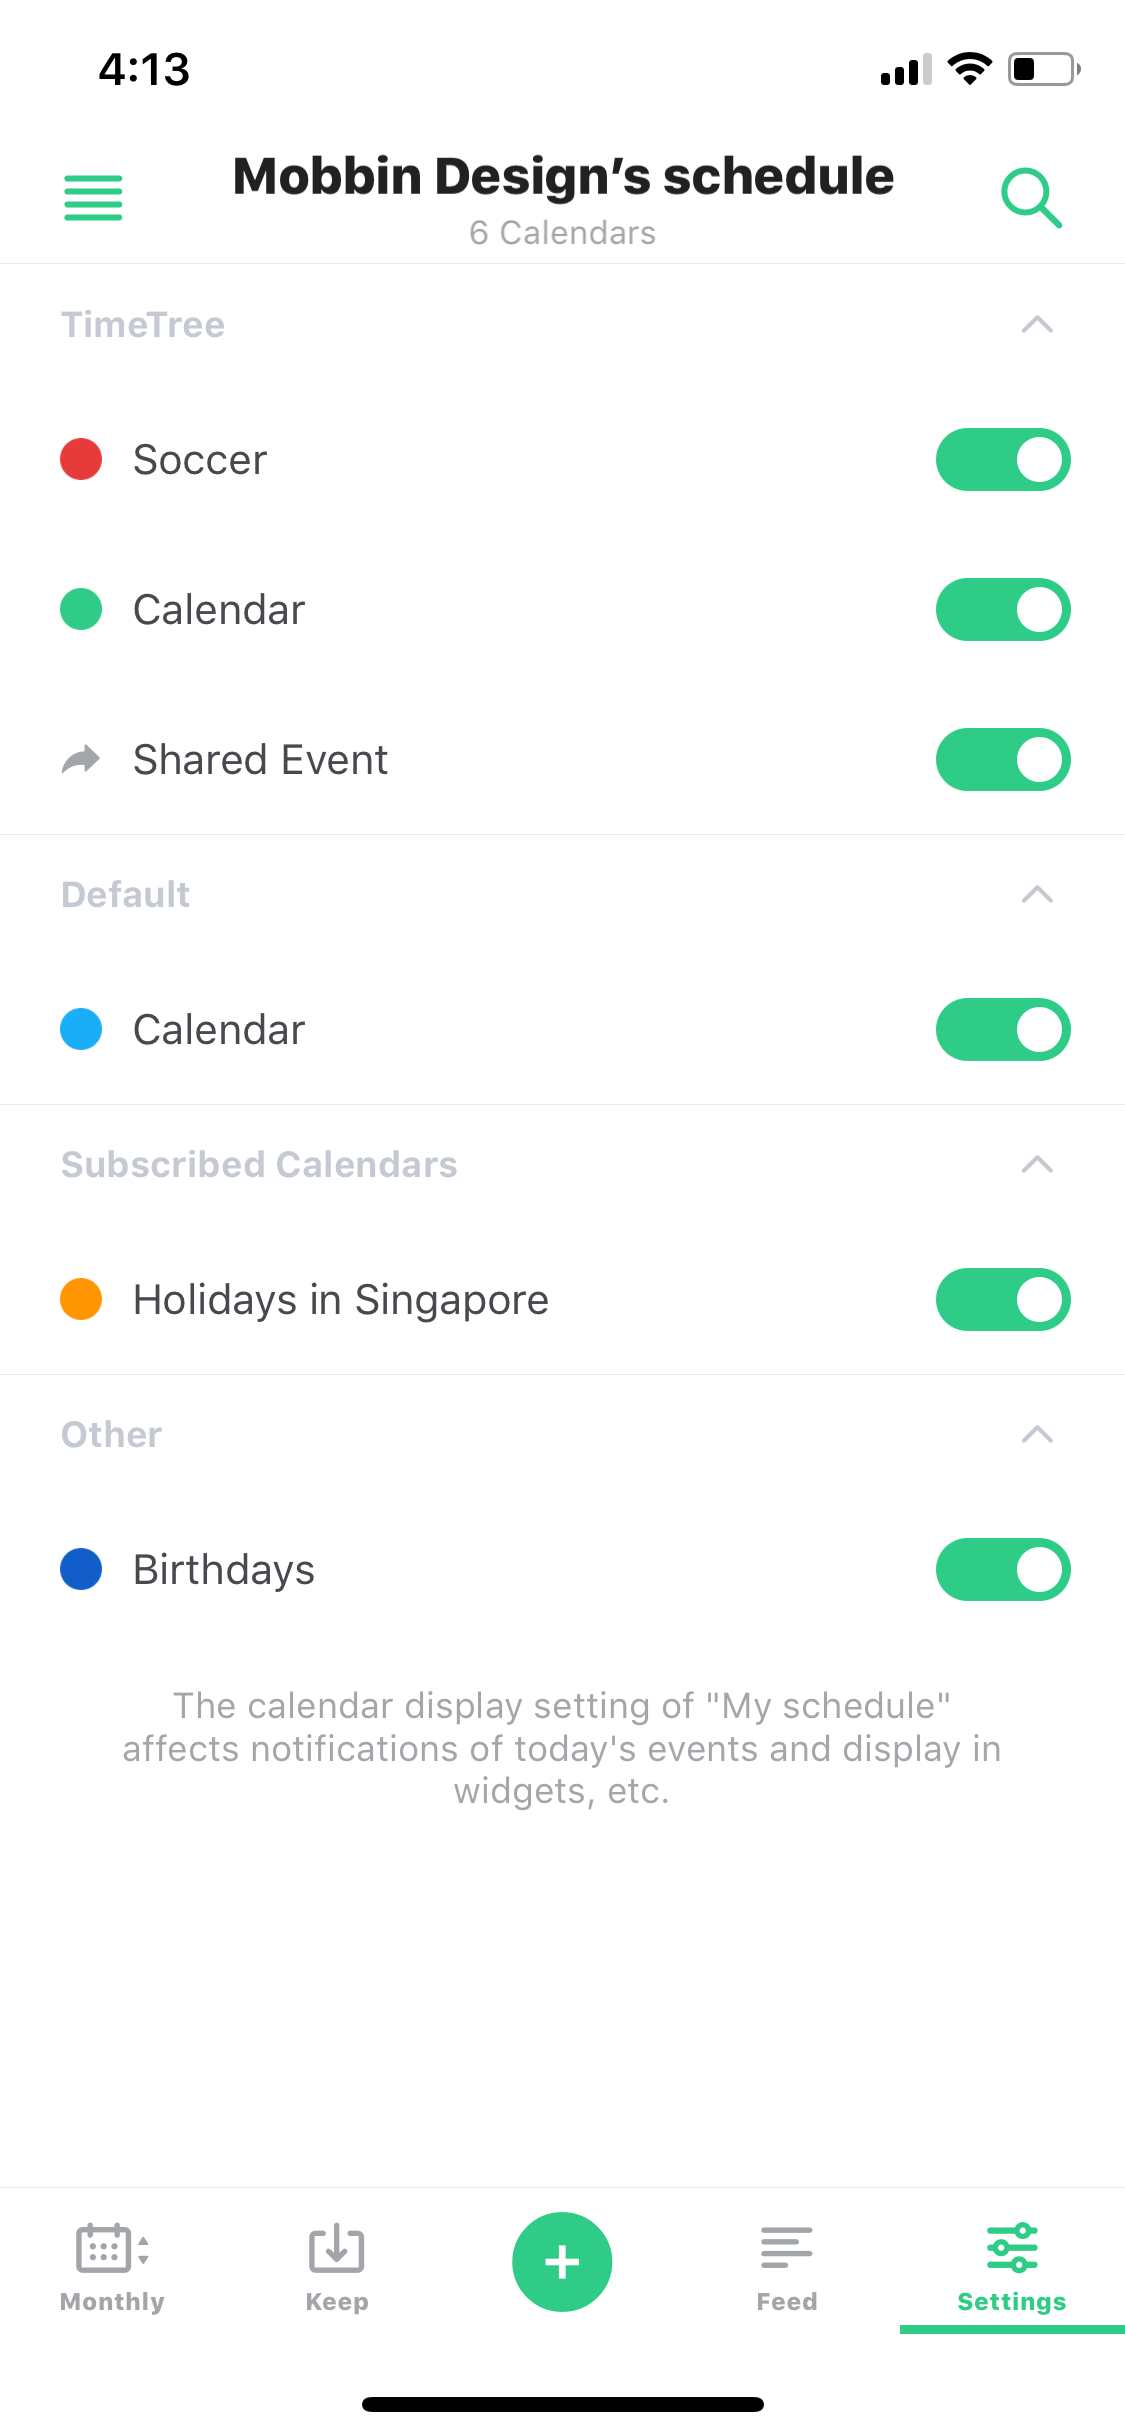Buttons: (20, 124, 166, 256), (970, 124, 1092, 255)
Switches: (925, 979, 1072, 1072), (928, 423, 1085, 502), (925, 565, 1075, 648), (931, 715, 1072, 797), (929, 1263, 1074, 1341), (932, 1536, 1077, 1606)
